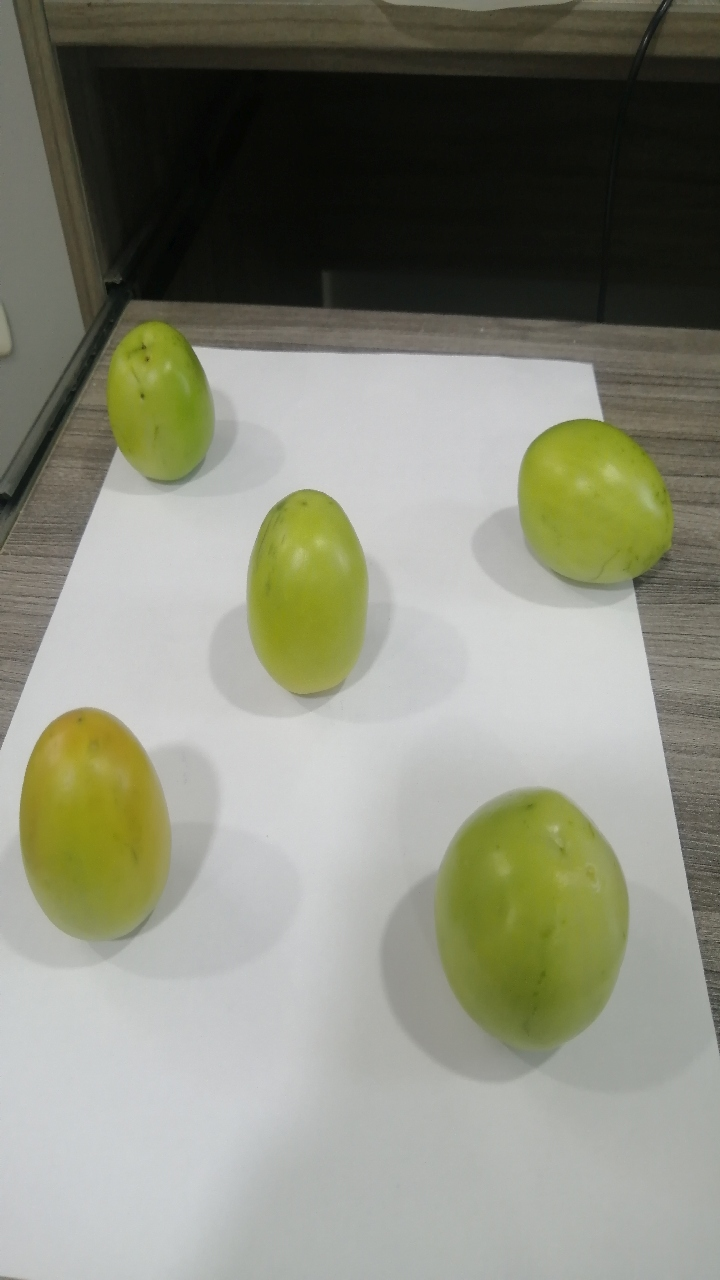tomateVerde: (409, 771, 651, 1066), (4, 682, 217, 971), (215, 466, 394, 725), (504, 402, 700, 629), (88, 302, 248, 503)
